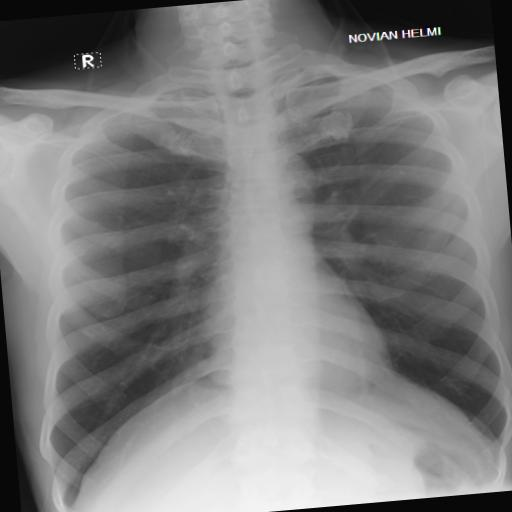normal: (7, 30, 512, 512)
